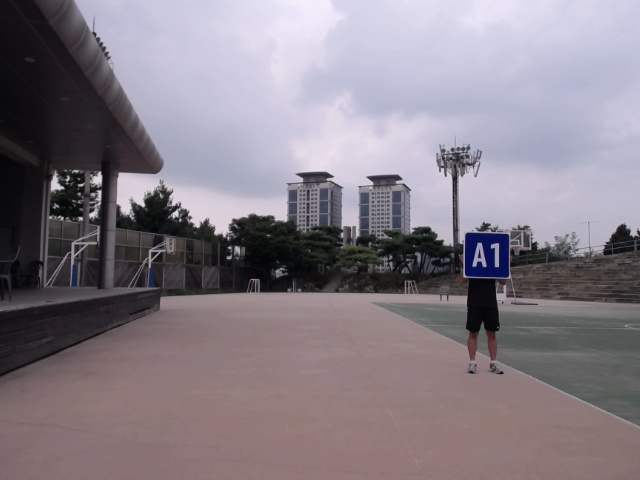delivery_a1: (464, 232, 511, 279)
